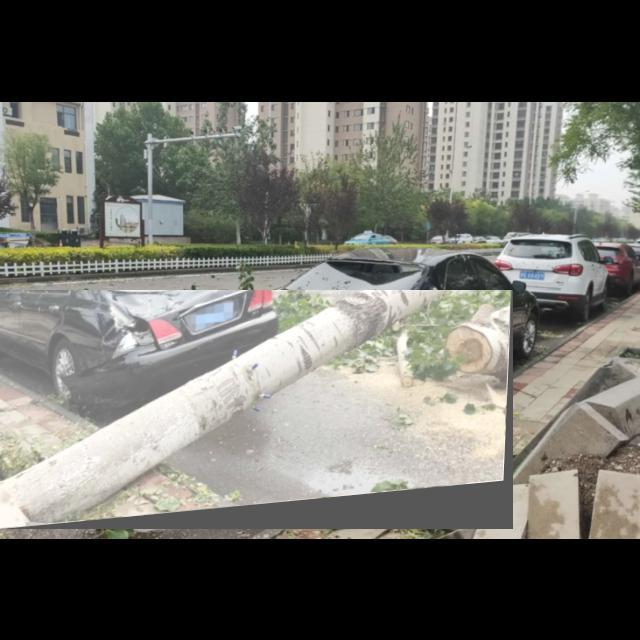fallen_tree: (0, 290, 514, 530)
